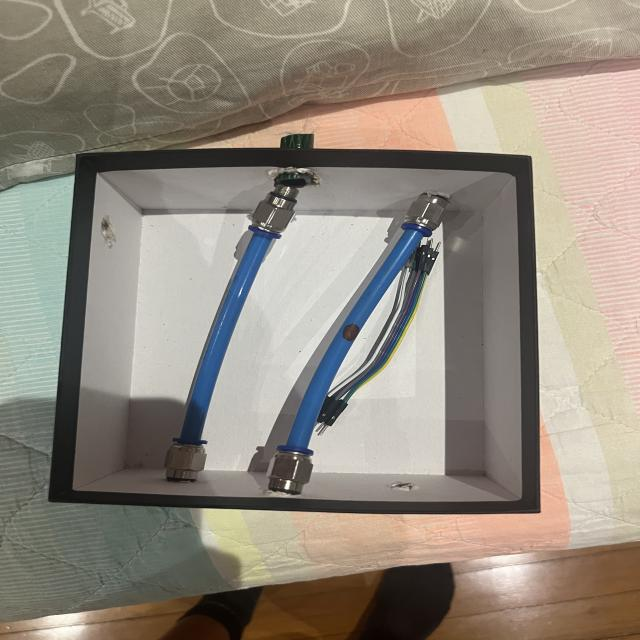hose_damage: (337, 322, 364, 344)
